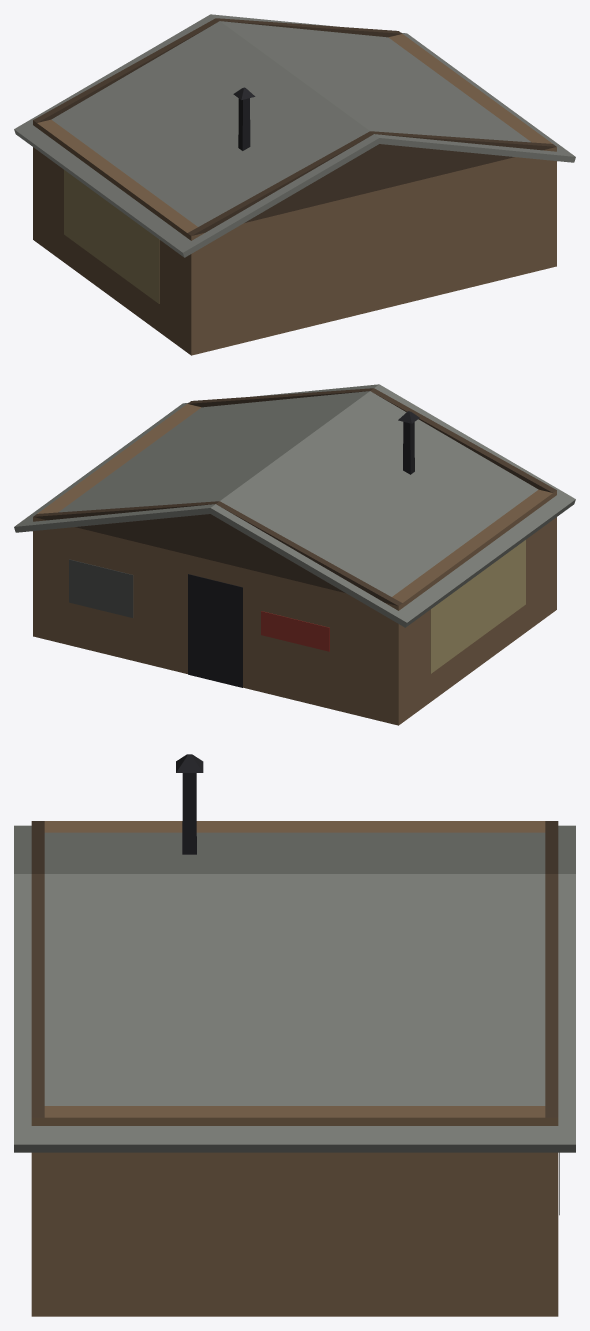
Rendered from fish_shack_lod1.glb.
3 views of the same model, one above another, from view 1: azimuth 30°, elevation 25°; view 2: azimuth 150°, elevation 25°; view 3: azimuth 270°, elevation 25° (orthographic). The views are drawn at different scales.
Parts seen in each view (by area): view 1: fish_shack_lod1; view 2: fish_shack_lod1; view 3: fish_shack_lod1.
Part boxes in pixels (x1=…): fish_shack_lod1: x1=14, y1=14, x2=575, y2=355; fish_shack_lod1: x1=14, y1=384, x2=575, y2=725; fish_shack_lod1: x1=14, y1=754, x2=575, y2=1316.
Size of what is drawn, in the model's own units: 8.6 by 4.35 by 6.4.
Materials: 2 (2 with a texture image).
